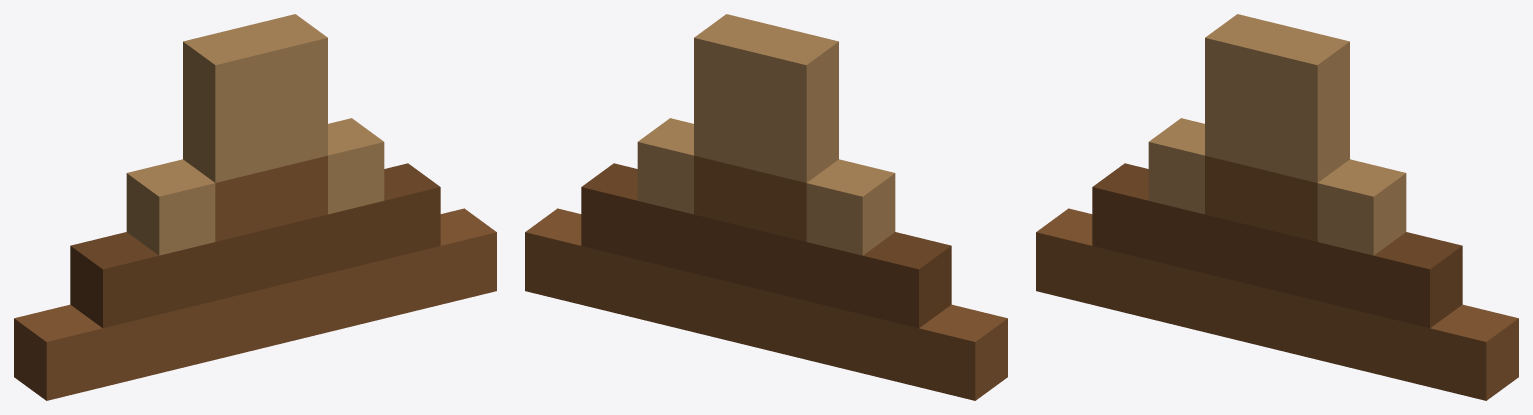
The model's file is piece_gable_voxel.fbx.
3 renders of one model, left to right at view 1: azimuth 30°, elevation 25°; view 2: azimuth 150°, elevation 25°; view 3: azimuth 330°, elevation 25°, orthographic.
Visible parts, largest first — view 1: piece_gable_voxel; view 2: piece_gable_voxel; view 3: piece_gable_voxel.
Boxes of the visible parts, <box> form: piece_gable_voxel: <box>14,14,496,400</box>; piece_gable_voxel: <box>525,14,1007,400</box>; piece_gable_voxel: <box>1036,14,1518,400</box>.
Bounding box in the file's own units: 2 × 1.25 × 0.25.
